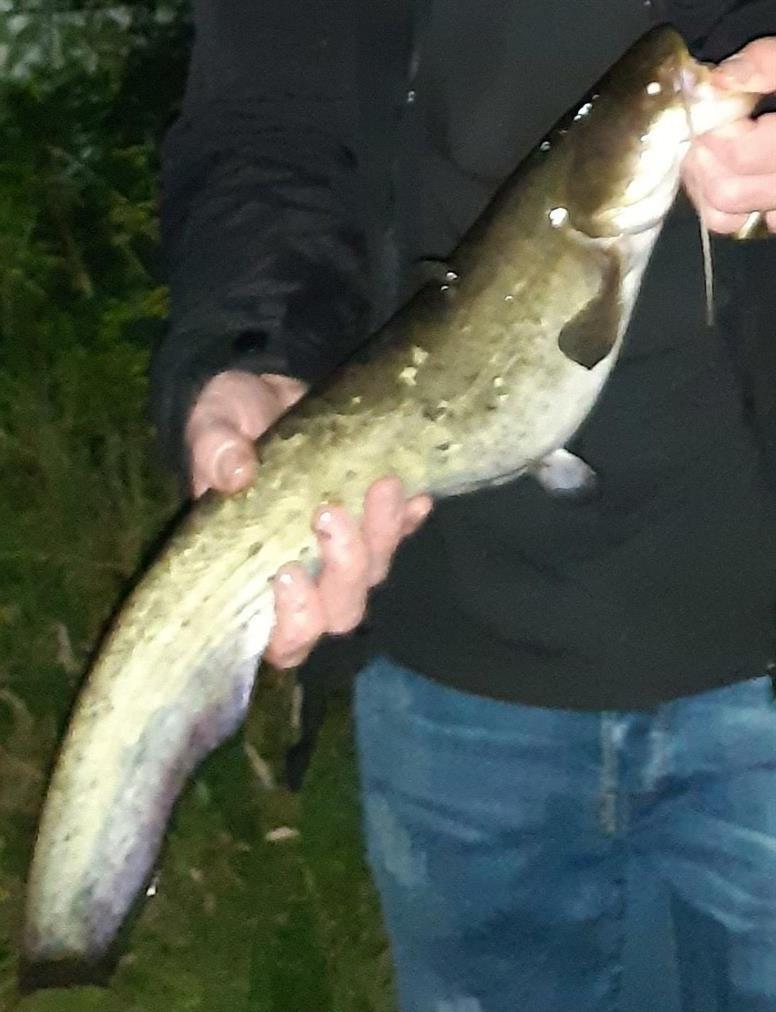Catfish: (16, 37, 741, 1012)
